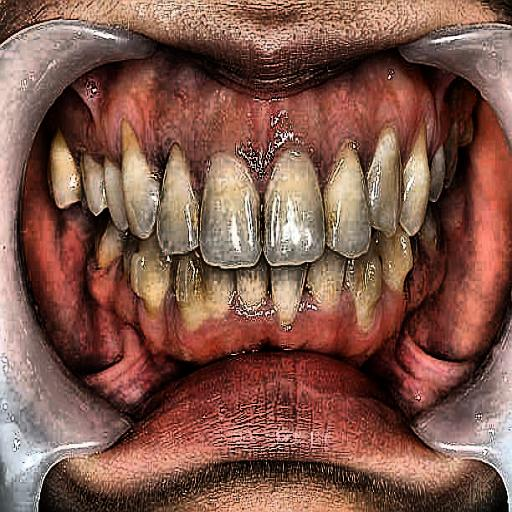Calculus: (44, 122, 255, 330), (264, 118, 476, 294)
